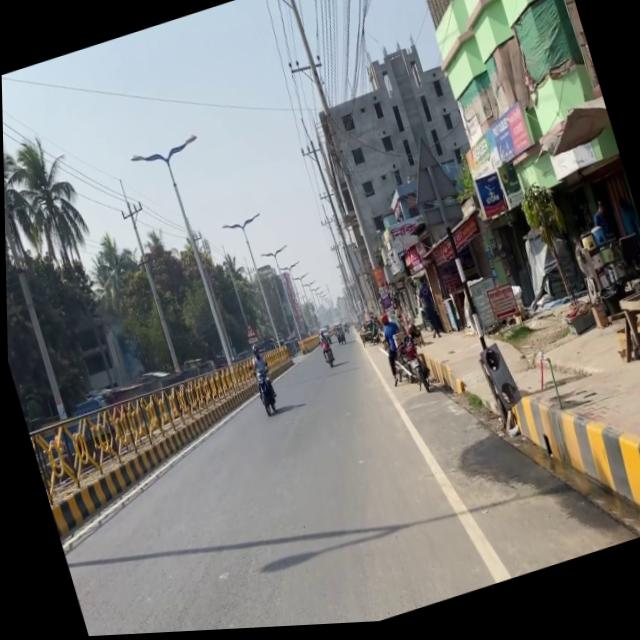Construction-barrier: (496, 358, 640, 554)
Fallen-tree: (248, 366, 280, 421), (317, 342, 335, 372), (332, 332, 344, 349)
Garbage: (607, 290, 640, 379)
Garbage-bin: (242, 345, 276, 406), (587, 205, 611, 248)
Light-pole: (2, 114, 73, 421)
Muddy road: (513, 179, 597, 348)
Pole: (26, 353, 272, 529)
Pothole: (393, 245, 640, 592)
